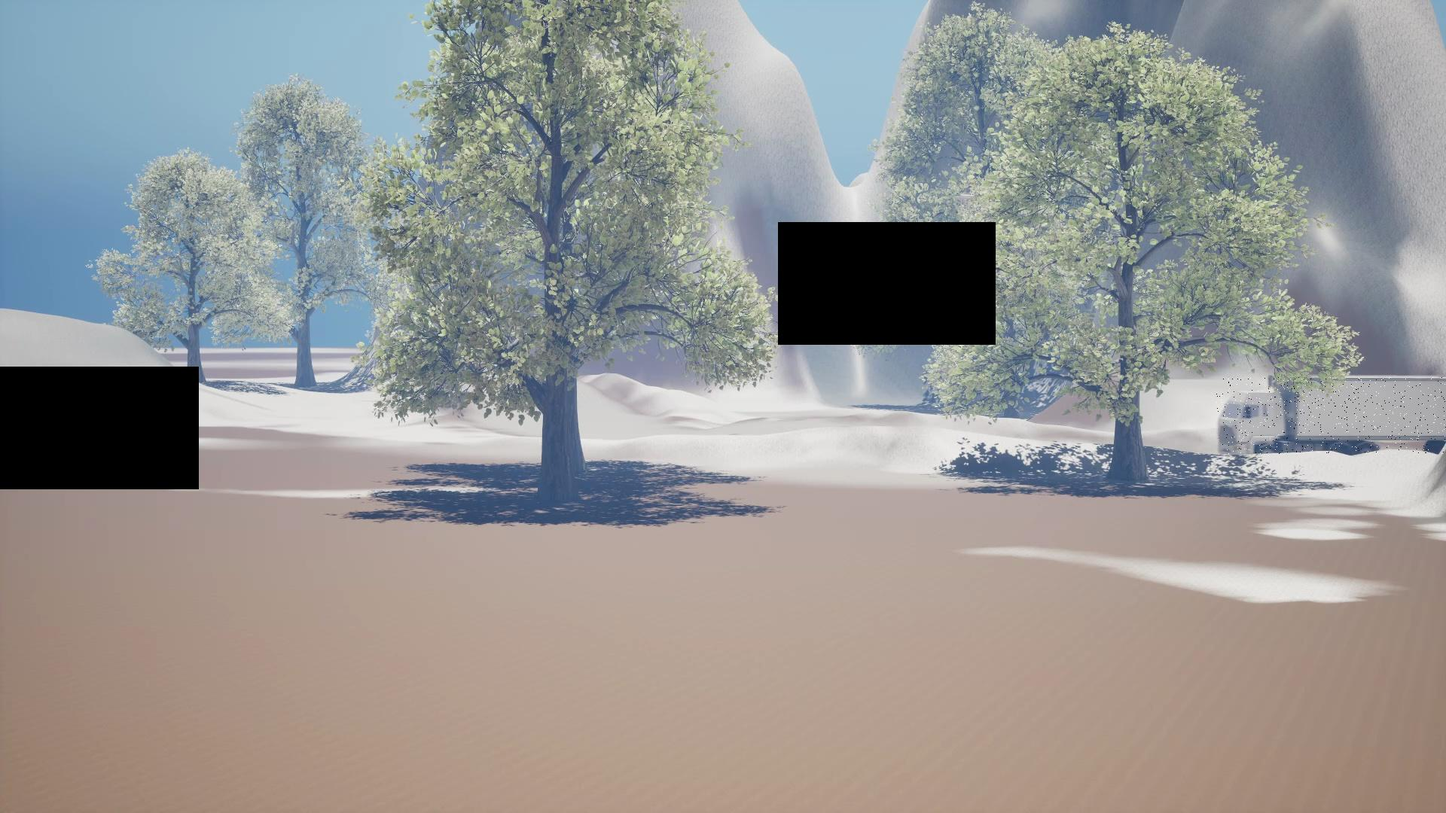truck: (1216, 377, 1446, 454)
